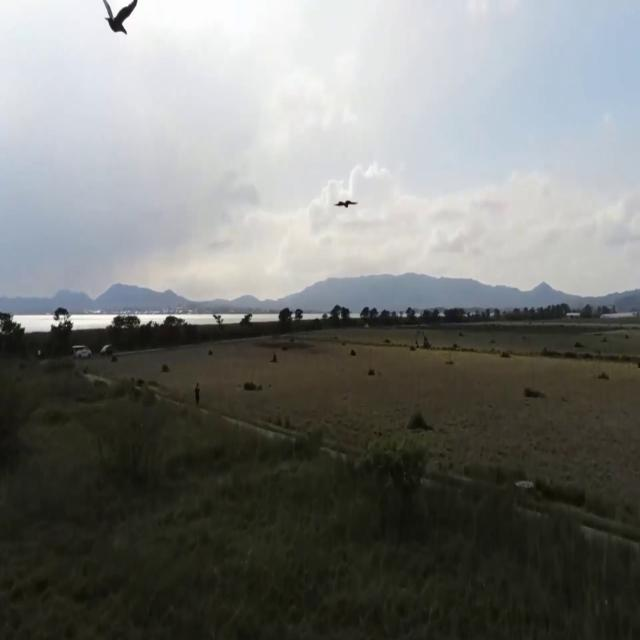bird: (100, 0, 140, 60), (334, 189, 359, 226), (350, 342, 356, 364)
